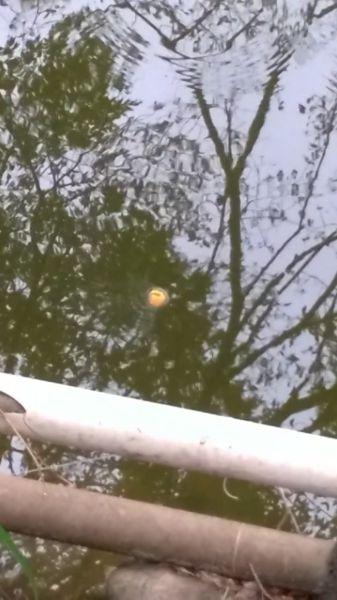eggs: (143, 283, 176, 310)
